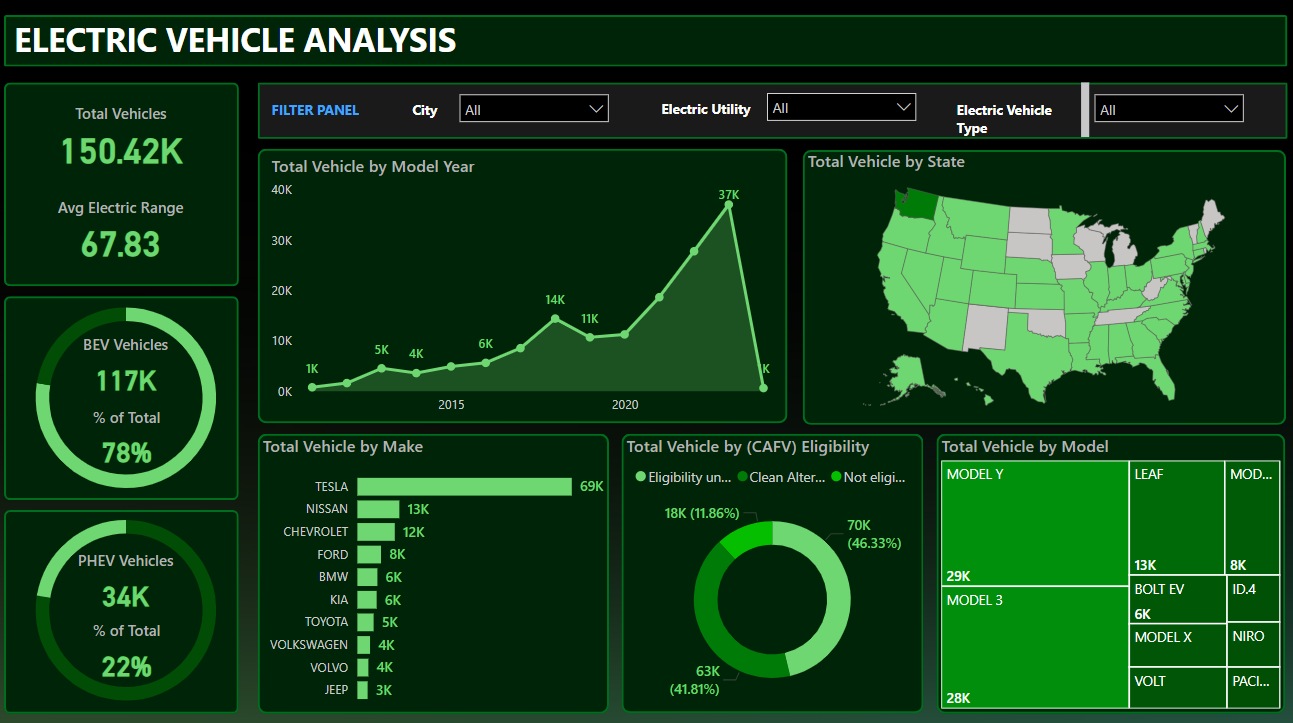

This screenshot's page, from the dashboard's own definition file:
{"tool":"powerbi","page":{"name":"Page 1","canvas":[1280,720],"ordinal":0},"visuals":[{"type":"shape","box":[9.6,19.2,1259.7,50.8],"z":0},{"type":"textbox","box":[14.7,17.2,542.3,57.7],"z":1000},{"type":"shape","box":[9.8,85.9,230.7,200],"z":2000},{"type":"card","title":"Total Vehicles","fields":{"Values":["Electric_Vehicle_Population_Data (1).TOTAL VEHICLE COUNT"]},"box":[14.7,105.5,219.6,69.9],"z":3000},{"type":"card","title":"Avg Electric Range","fields":{"Values":["Avg(Electric_Vehicle_Population_Data (1).Electric Range)"]},"box":[15.1,197.6,219,69.2],"z":4000},{"type":"shape","box":[10.1,295.8,230.4,200.2],"z":5000},{"type":"shape","box":[10.1,506.1,230.4,200.2],"z":6000},{"type":"card","title":"BEV Vehicles","fields":{"Values":["Electric_Vehicle_Population_Data (1).Bev Vehicles"]},"box":[20.1,332.3,219,69.2],"z":7000},{"type":"card","title":"% of Total","fields":{"Values":["Electric_Vehicle_Population_Data (1).% of bev"]},"box":[21.4,404.1,219,69.2],"z":8000},{"type":"donutChart","fields":{"Category":["Electric_Vehicle_Population_Data (1).Electric Vehicle Type"],"Y":["Electric_Vehicle_Population_Data (1).TOTAL VEHICLE COUNT"]},"box":[0,279.5,259.3,231.6],"z":9000},{"type":"card","title":"PHEV Vehicles","fields":{"Values":["Electric_Vehicle_Population_Data (1).Phev Vehicles"]},"box":[20.1,545.1,219,69.2],"z":10000},{"type":"card","title":"% of Total","fields":{"Values":["Electric_Vehicle_Population_Data (1).% of phev"]},"box":[21.4,613.1,219,69.2],"z":11000},{"type":"donutChart","fields":{"Category":["Electric_Vehicle_Population_Data (1).Electric Vehicle Type"],"Y":["Electric_Vehicle_Population_Data (1).TOTAL VEHICLE COUNT"]},"box":[0,488.4,259.3,231.6],"z":12000},{"type":"shape","box":[259.3,85.6,1010.9,55.4],"z":13000},{"type":"shape","box":[259.3,151.1,519.9,269.4],"z":14000},{"type":"areaChart","title":"Total Vehicle  by Model Year","fields":{"Category":["Electric_Vehicle_Population_Data (1).Model Year"],"Y":["Electric_Vehicle_Population_Data (1).TOTAL VEHICLE COUNT"]},"box":[266.9,156.1,506.1,264.4],"z":15000},{"type":"shape","box":[794.4,151.7,474.4,269.9],"z":16000},{"type":"shapeMap","title":"Total Vehicle by State","fields":{"Category":["Electric_Vehicle_Population_Data (1).State"],"Value":["Electric_Vehicle_Population_Data (1).TOTAL VEHICLE COUNT"]},"box":[793.8,150.6,474.1,269.1],"z":17000},{"type":"shape","box":[258.9,430.7,344.8,274.8],"z":18000},{"type":"barChart","title":"Total Vehicle by Make","fields":{"Category":["Electric_Vehicle_Population_Data (1).Make"],"Y":["Electric_Vehicle_Population_Data (1).TOTAL VEHICLE COUNT"]},"box":[258.9,430.7,344.8,274.8],"z":19000},{"type":"shape","box":[616.1,430.9,296.4,274.4],"z":20000},{"type":"donutChart","title":"Total Vehicle by (CAFV) Eligibility","fields":{"Y":["Electric_Vehicle_Population_Data (1).TOTAL VEHICLE COUNT"],"Category":["Electric_Vehicle_Population_Data (1).Clean Alternative Fuel Vehicle (CAFV) Eligibility"]},"box":[616.1,430.9,296.4,274.4],"z":21000},{"type":"shape","box":[925.2,430.7,342.3,274.8],"z":22000},{"type":"treemap","title":"Total Vehicle by Model","fields":{"Group":["Electric_Vehicle_Population_Data (1).Model"],"Values":["Electric_Vehicle_Population_Data (1).TOTAL VEHICLE COUNT"]},"box":[925.2,430.7,342.3,274.8],"z":23000},{"type":"textbox","box":[267.5,81,542.3,71.2],"z":24000},{"type":"slicer","fields":{"Values":["Electric_Vehicle_Population_Data (1).City"]},"box":[446.4,87.1,166.9,51.5],"z":25000},{"type":"textbox","box":[398.5,81,47.9,71.2],"z":26000},{"type":"slicer","fields":{"Values":["Electric_Vehicle_Population_Data (1).Electric Utility"]},"box":[748.3,85.9,166.9,51.5],"z":26001},{"type":"textbox","box":[649.1,79.8,99.4,71.2],"z":26002},{"type":"slicer","fields":{"Values":["Electric_Vehicle_Population_Data (1).Electric Vehicle Type"]},"box":[1069.6,87.3,166.9,51.5],"z":26003},{"type":"textbox","box":[940.1,81,139.9,71.2],"z":26004}]}

Visuals, with their boxes in screenshot pixels (x1, y1, x2, y2), scaled from the page's 1280x720 canvas onto the 1293x723 screenshot:
shape: box(10, 19, 1282, 70)
textbox: box(15, 17, 563, 75)
shape: box(10, 86, 243, 287)
"Total Vehicles" card: box(15, 106, 237, 176)
"Avg Electric Range" card: box(15, 198, 236, 268)
shape: box(10, 297, 243, 498)
shape: box(10, 508, 243, 709)
"BEV Vehicles" card: box(20, 334, 242, 403)
"% of Total" card: box(22, 406, 243, 475)
donutChart - Electric_Vehicle_Population_Data (1).Electric Vehicle Type x Electric_Vehicle_Population_Data (1).TOTAL VEHICLE COUNT: box(0, 281, 262, 513)
"PHEV Vehicles" card: box(20, 547, 242, 617)
"% of Total" card: box(22, 616, 243, 685)
donutChart - Electric_Vehicle_Population_Data (1).Electric Vehicle Type x Electric_Vehicle_Population_Data (1).TOTAL VEHICLE COUNT: box(0, 490, 262, 722)
shape: box(262, 86, 1283, 142)
shape: box(262, 152, 787, 422)
"Total Vehicle  by Model Year" areaChart: box(270, 157, 781, 422)
shape: box(802, 152, 1282, 423)
"Total Vehicle by State" shapeMap: box(802, 151, 1281, 421)
shape: box(262, 432, 610, 708)
"Total Vehicle by Make" barChart: box(262, 432, 610, 708)
shape: box(622, 433, 922, 708)
"Total Vehicle by (CAFV) Eligibility" donutChart: box(622, 433, 922, 708)
shape: box(935, 432, 1280, 708)
"Total Vehicle by Model" treemap: box(935, 432, 1280, 708)
textbox: box(270, 81, 818, 153)
slicer - Electric_Vehicle_Population_Data (1).City: box(451, 87, 620, 139)
textbox: box(403, 81, 451, 153)
slicer - Electric_Vehicle_Population_Data (1).Electric Utility: box(756, 86, 924, 138)
textbox: box(656, 80, 756, 152)
slicer - Electric_Vehicle_Population_Data (1).Electric Vehicle Type: box(1080, 88, 1249, 139)
textbox: box(950, 81, 1091, 153)
